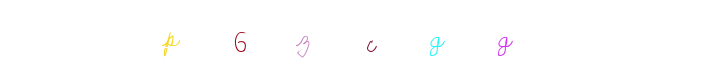6: (241, 0, 321, 80)
C: (315, 0, 395, 80)
G: (395, 0, 475, 80), (464, 0, 544, 80)
P: (129, 0, 209, 80)
Z: (300, 0, 380, 80)
